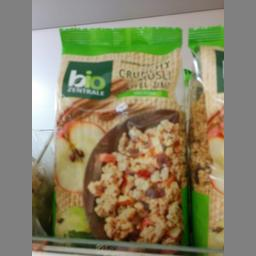cereal: (50, 26, 192, 255)
